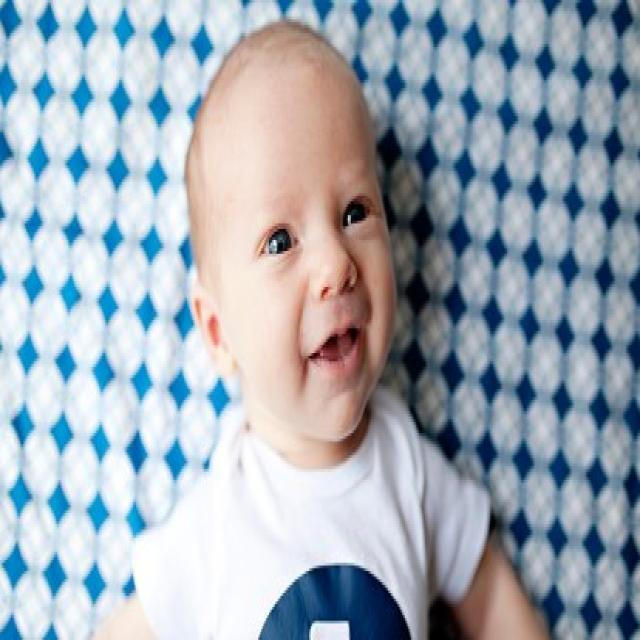non-dog: (61, 26, 551, 640)
